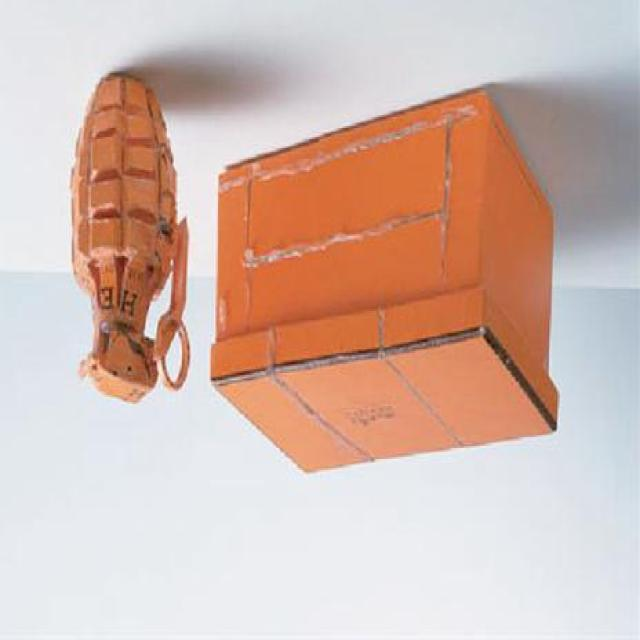grenade: (70, 74, 190, 405)
